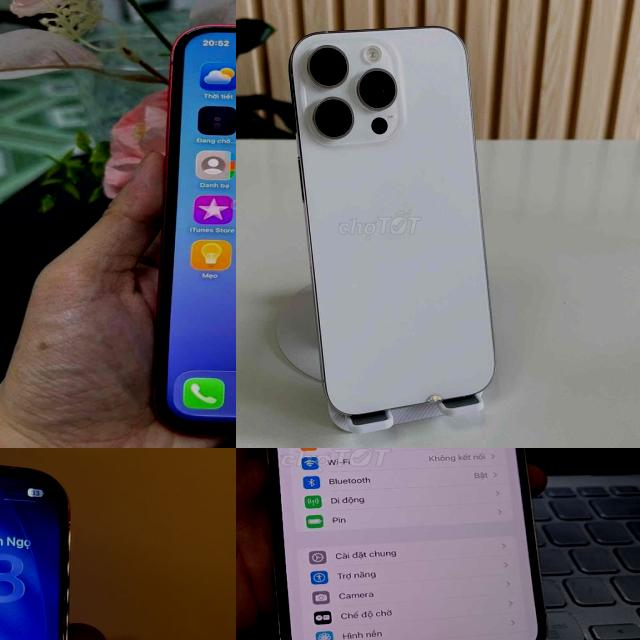gen_11: (143, 21, 236, 443)
gen_12_13: (249, 448, 553, 640), (0, 448, 81, 640)
gen_16: (285, 24, 500, 424)
